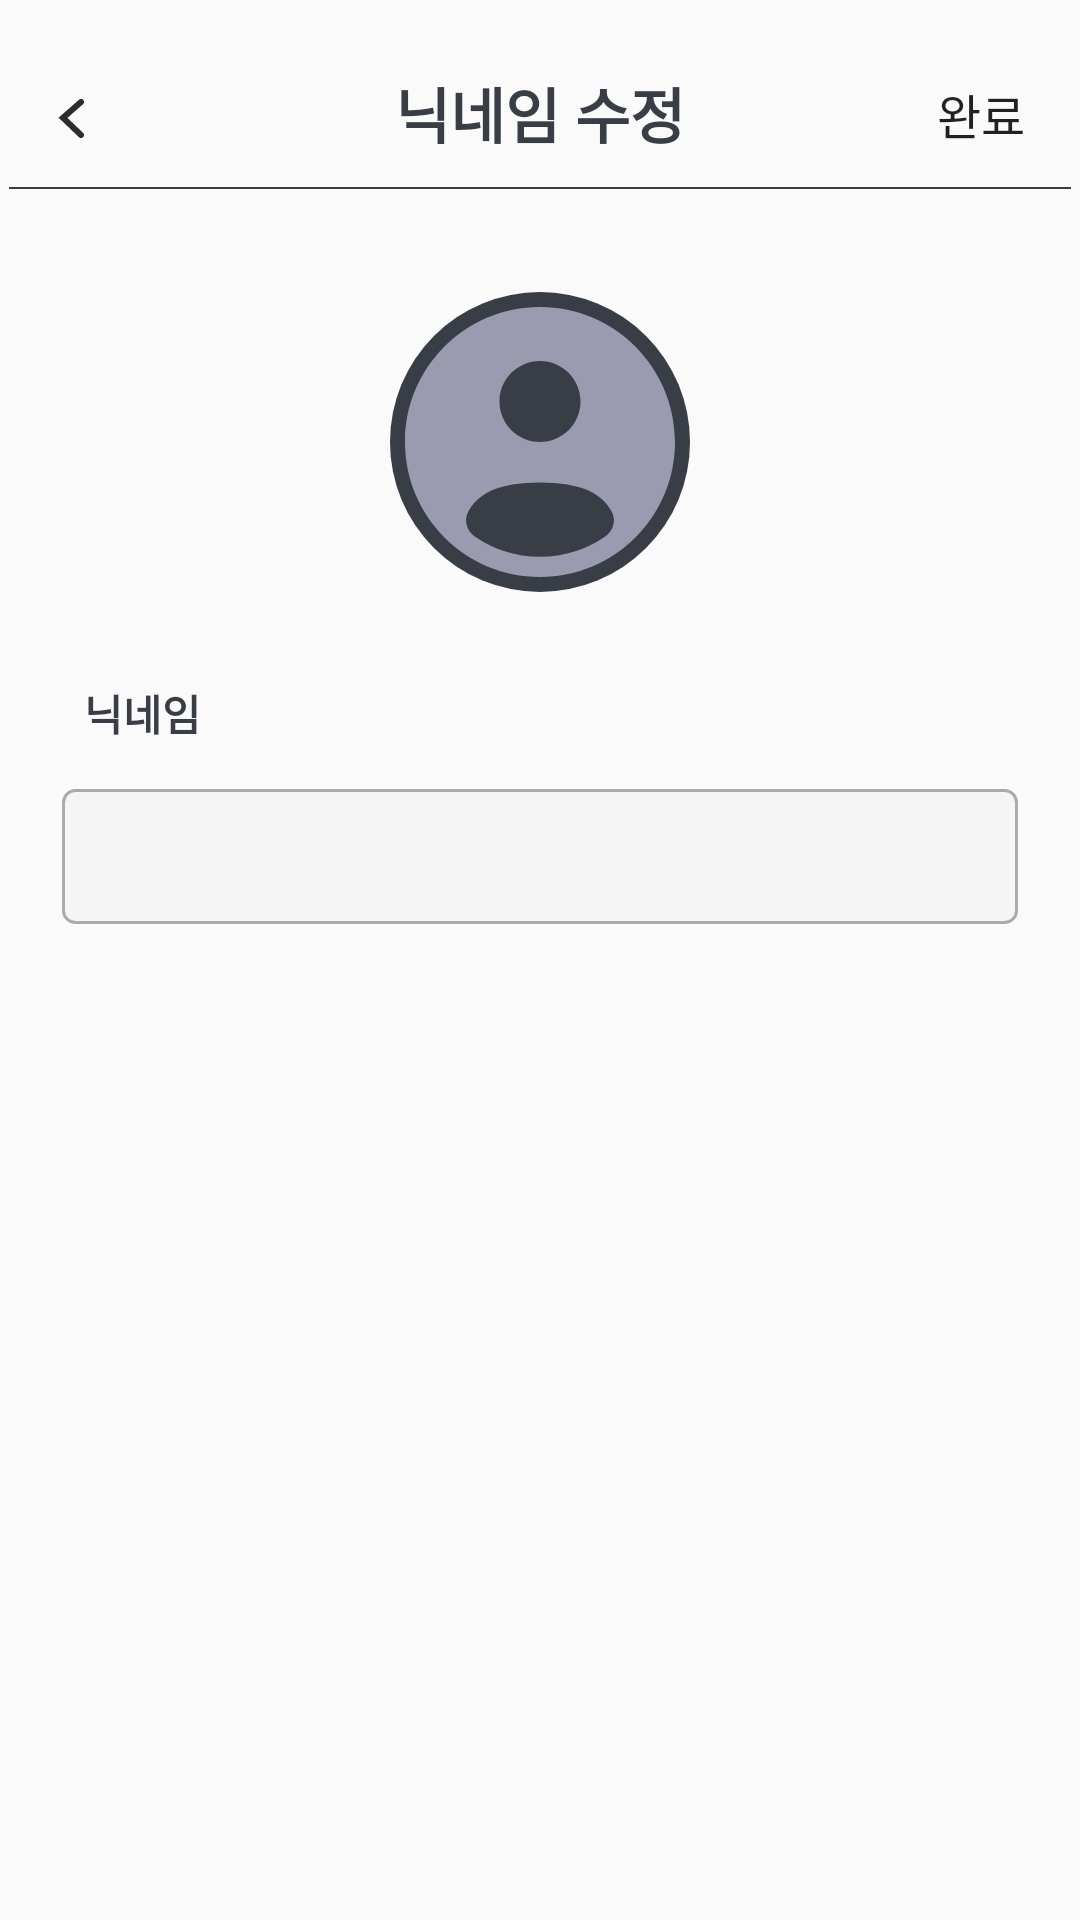

Where icons sit on this 1080 × 1920 app screen, as (x1, y1, x2, y2):
arrow: (58, 99, 84, 138)
profile: (390, 292, 690, 592)
